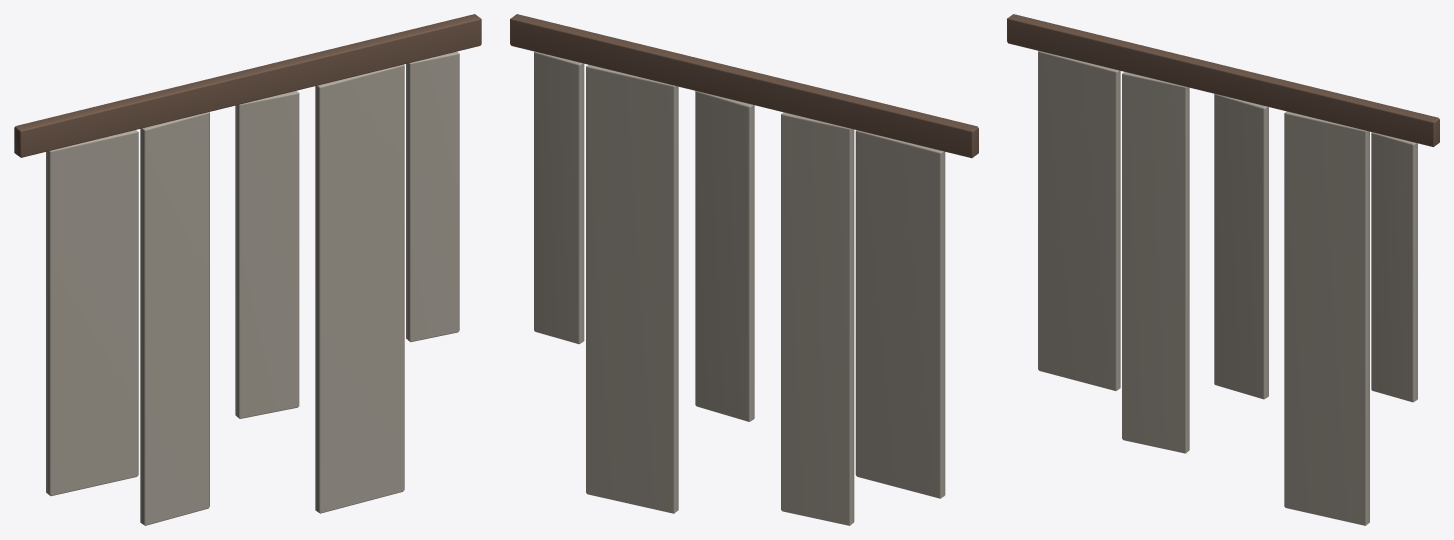
File: prop_torn_curtain_01.glb
The picture shows the model from 3 angles, left to right: view 1: azimuth 30°, elevation 25°; view 2: azimuth 150°, elevation 25°; view 3: azimuth 330°, elevation 25°; orthographic projection. The views are drawn at different scales.
Parts seen in each view (by area): view 1: curtain_torn_strip_04.001, curtain_torn_strip_01.001, curtain_torn_strip_02.001, curtain_torn_strip_03.001, curtain_top_strip.001, curtain_torn_strip_05.001; view 2: curtain_torn_strip_04.001, curtain_torn_strip_01.001, curtain_torn_strip_02.001, curtain_torn_strip_03.001, curtain_top_strip.001, curtain_torn_strip_05.001; view 3: curtain_torn_strip_04.001, curtain_torn_strip_01.001, curtain_torn_strip_02.001, curtain_torn_strip_03.001, curtain_top_strip.001, curtain_torn_strip_05.001.
Boxes of the visible parts, box(x1,y1,x2,y2) form: curtain_torn_strip_04.001: box(315, 64, 404, 513); curtain_torn_strip_01.001: box(46, 130, 138, 496); curtain_torn_strip_02.001: box(140, 112, 209, 525); curtain_torn_strip_03.001: box(235, 90, 299, 418); curtain_top_strip.001: box(14, 14, 481, 157); curtain_torn_strip_05.001: box(406, 51, 459, 342); curtain_torn_strip_04.001: box(586, 65, 678, 513); curtain_torn_strip_01.001: box(855, 130, 945, 498); curtain_torn_strip_02.001: box(781, 112, 854, 525); curtain_torn_strip_03.001: box(695, 91, 754, 421); curtain_top_strip.001: box(510, 14, 978, 158); curtain_torn_strip_05.001: box(534, 51, 584, 344); curtain_torn_strip_04.001: box(1284, 111, 1369, 525); curtain_torn_strip_01.001: box(1038, 51, 1120, 390); curtain_torn_strip_02.001: box(1122, 72, 1189, 453); curtain_torn_strip_03.001: box(1214, 94, 1268, 399); curtain_top_strip.001: box(1007, 14, 1439, 146); curtain_torn_strip_05.001: box(1371, 132, 1417, 402).
Bounding box in the file's own units: 0.95 × 0.8975 × 0.0279.
